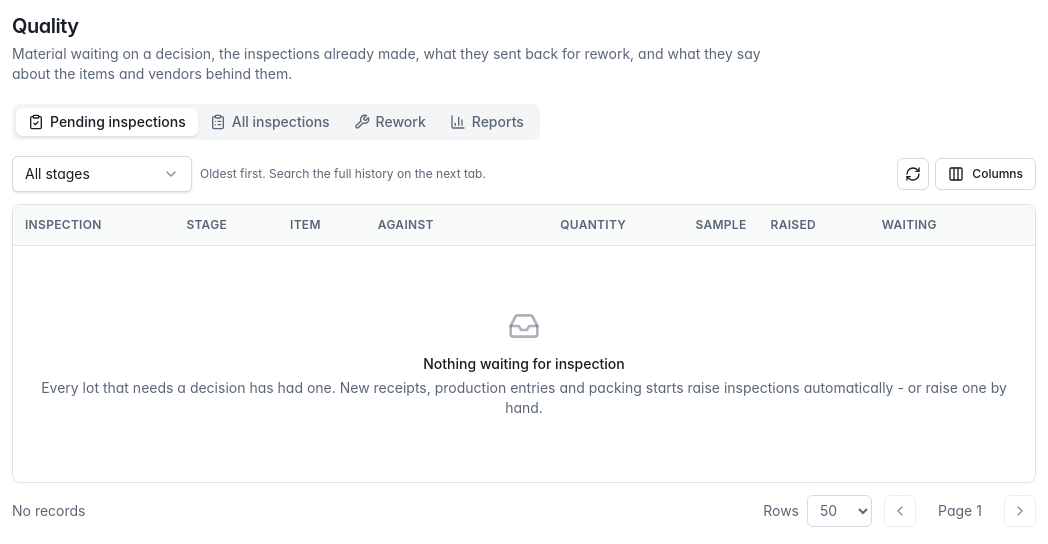
Test: the inspection history › withholds Inspect on a WITHDRAWN inspection, which the API would refuse
Check: the text "Nothing waiting for inspection" is shown, box [423,354,625,372]
Click the tab "All inspections". click: x=270, y=122
box: [198,108,342,136]
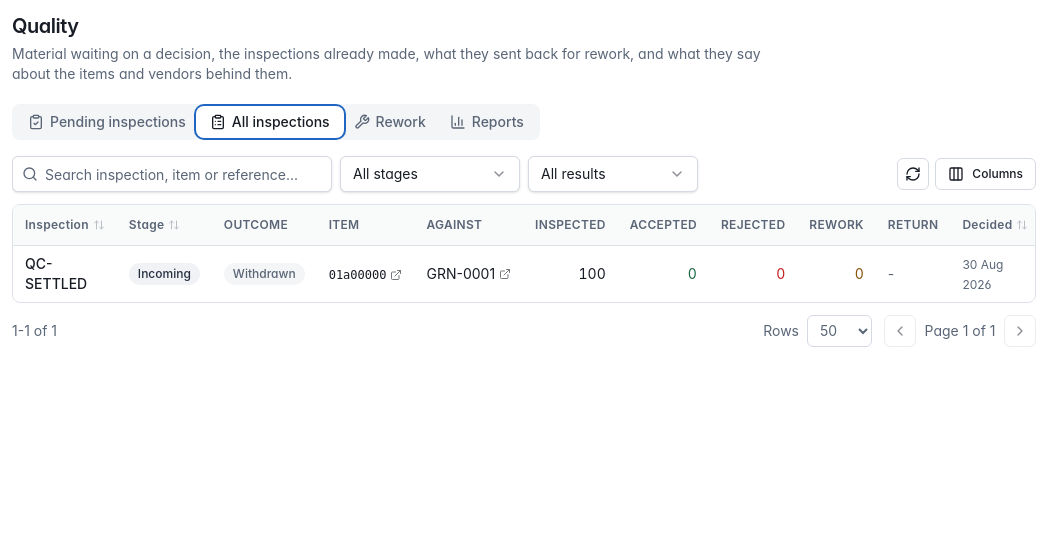
Check: the text "QC-SETTLED" is shown, box [25,254,87,292]
Check: the text "Withdrawn" is shown, box [224,262,305,284]
